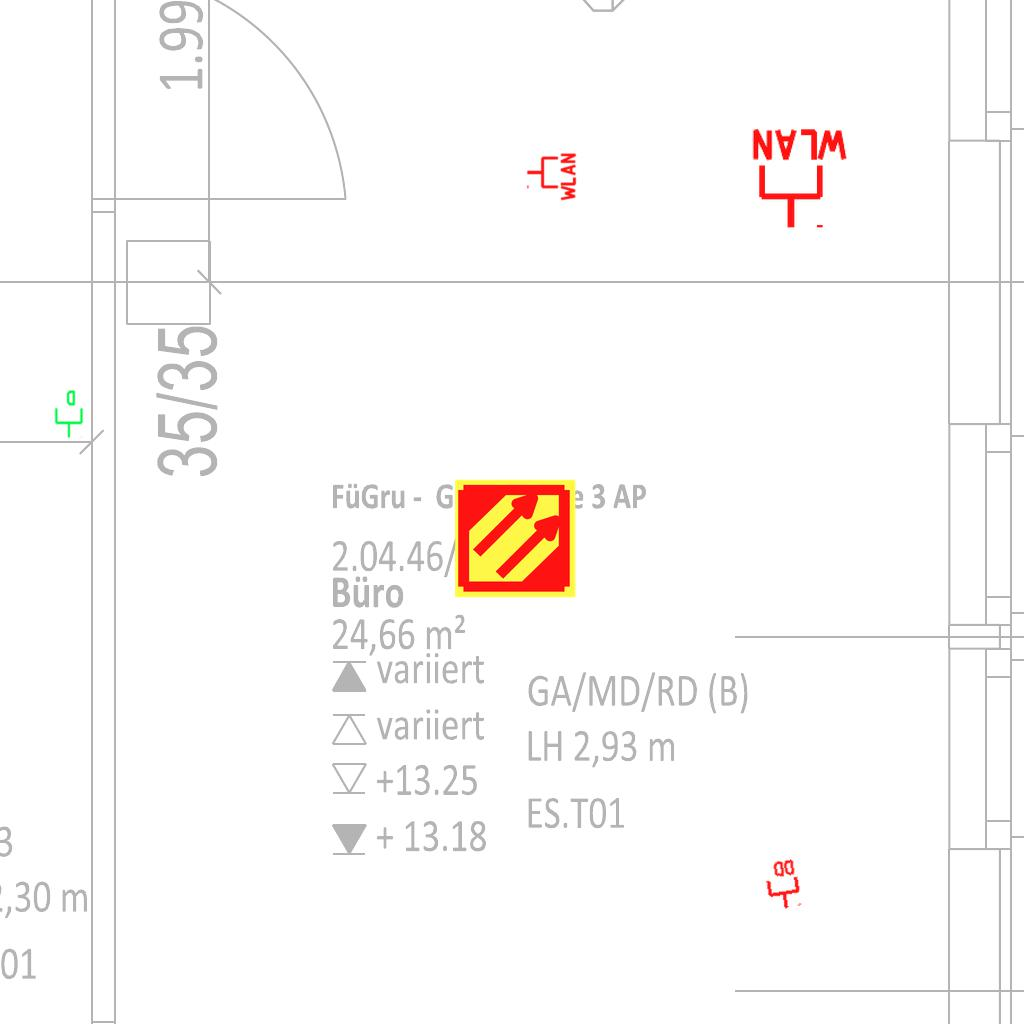ASR_Ansaugrauchmelder: (453, 476, 578, 601)
Datenanschluss_einfach: (51, 389, 85, 439)
Datenanschluss_zweifach: (761, 856, 803, 913)
WLAN: (748, 127, 852, 232), (525, 151, 577, 203)
